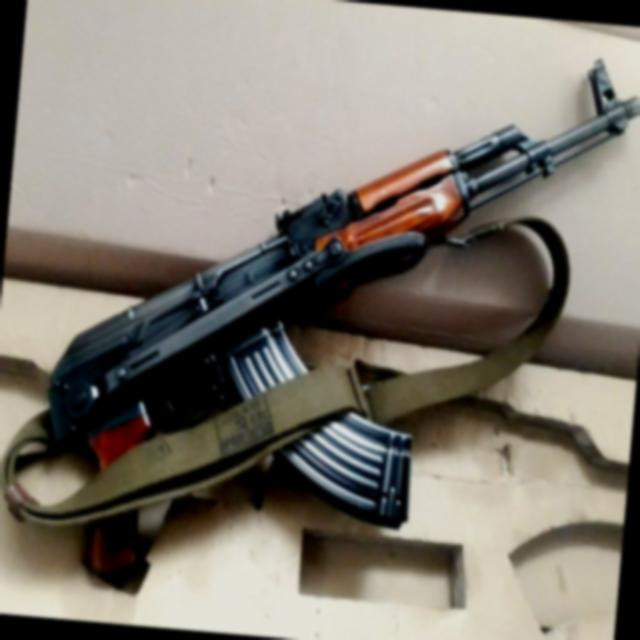ak: (35, 7, 640, 548)
